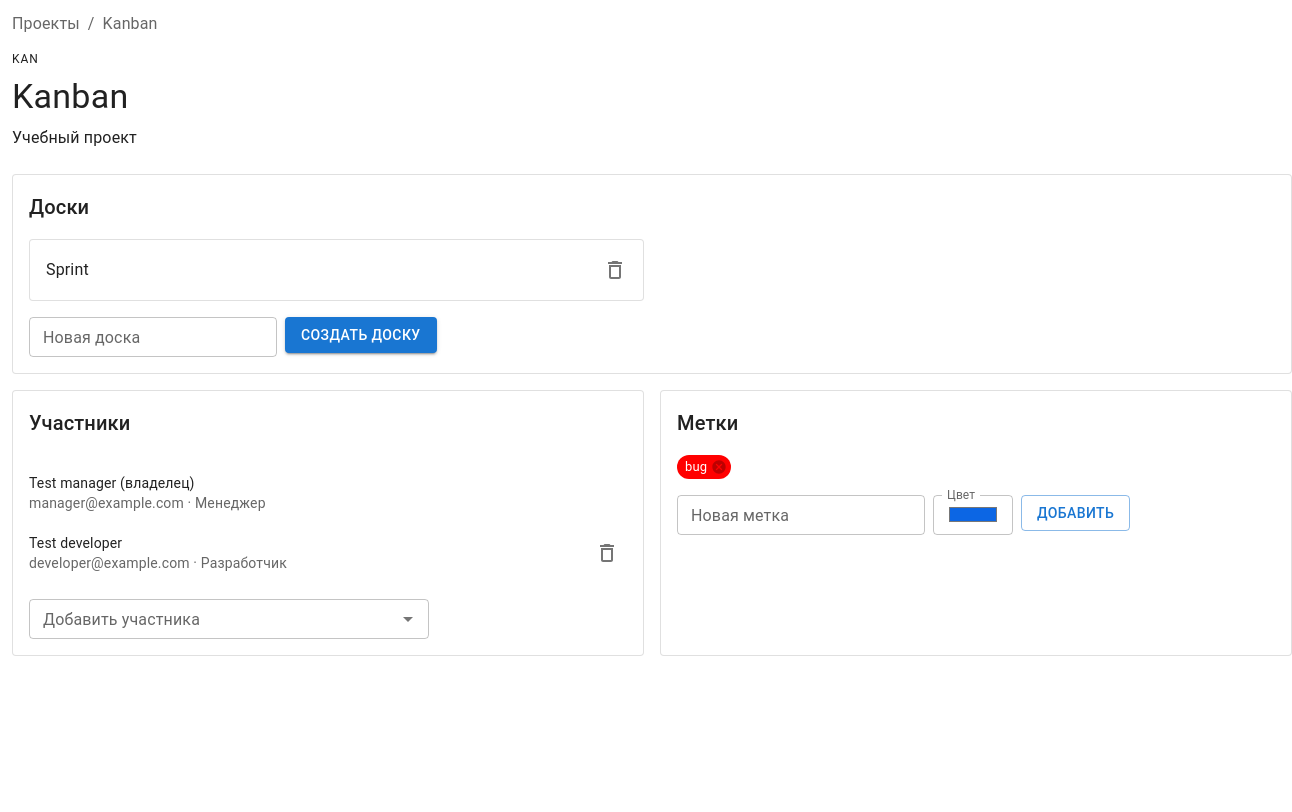
Test: ProjectPage › менеджер создаёт и удаляет метки
Expected: the text "bug" is shown, [685, 459, 707, 474]
Click the button "Добавить" at x=1076, y=513, box [1021, 495, 1130, 531]
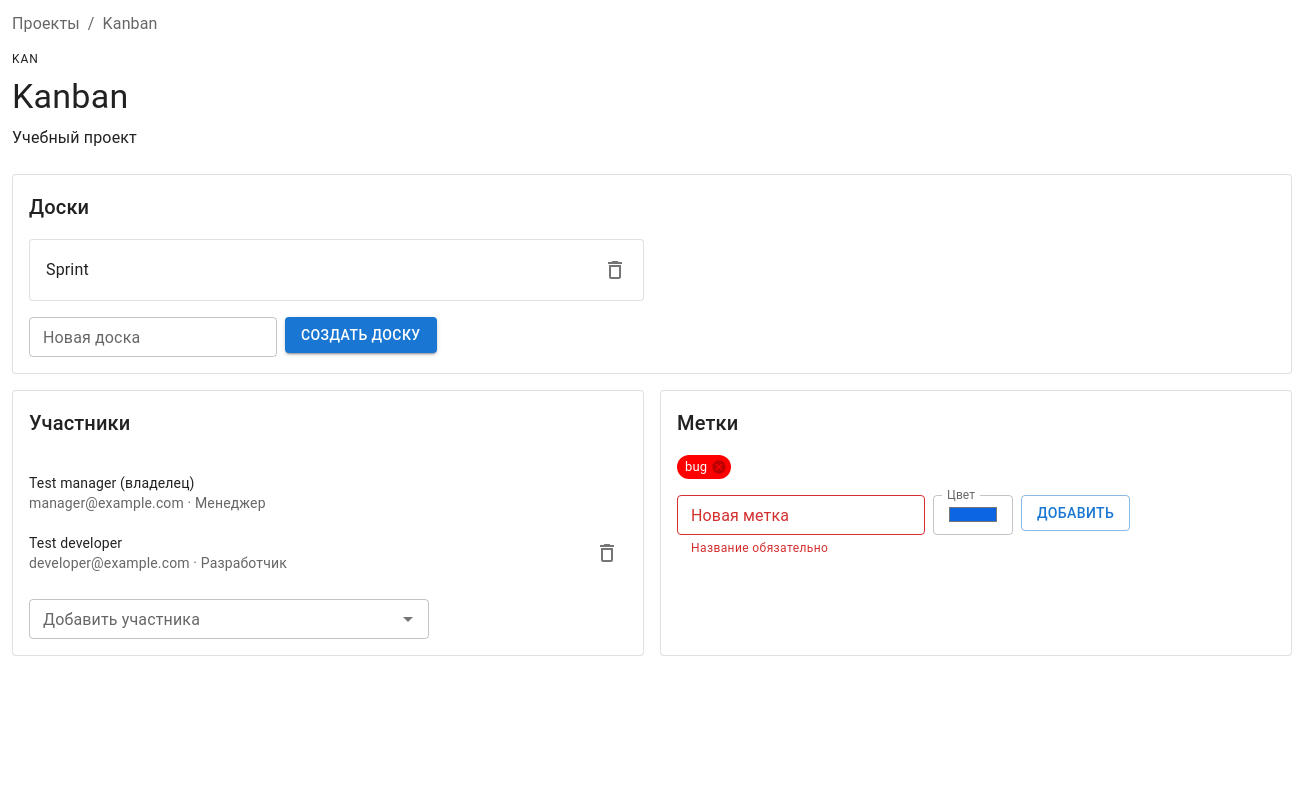
Expected: the text "Название обязательно" is shown, [691, 541, 828, 555]
Type "bug" into the field labelled "Новая метка" at x=801, y=515, box [677, 495, 925, 535]
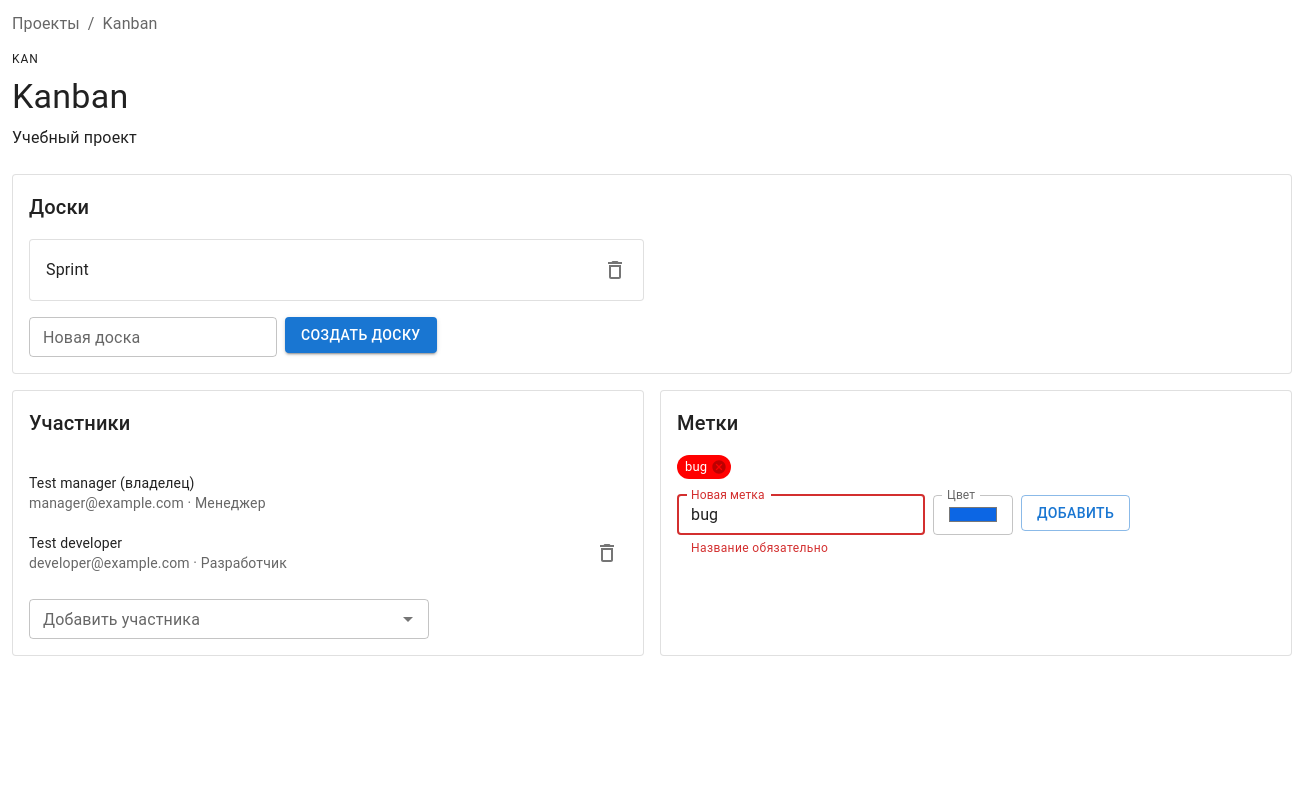
Click the button "Добавить" at x=1076, y=513, box [1021, 495, 1130, 531]
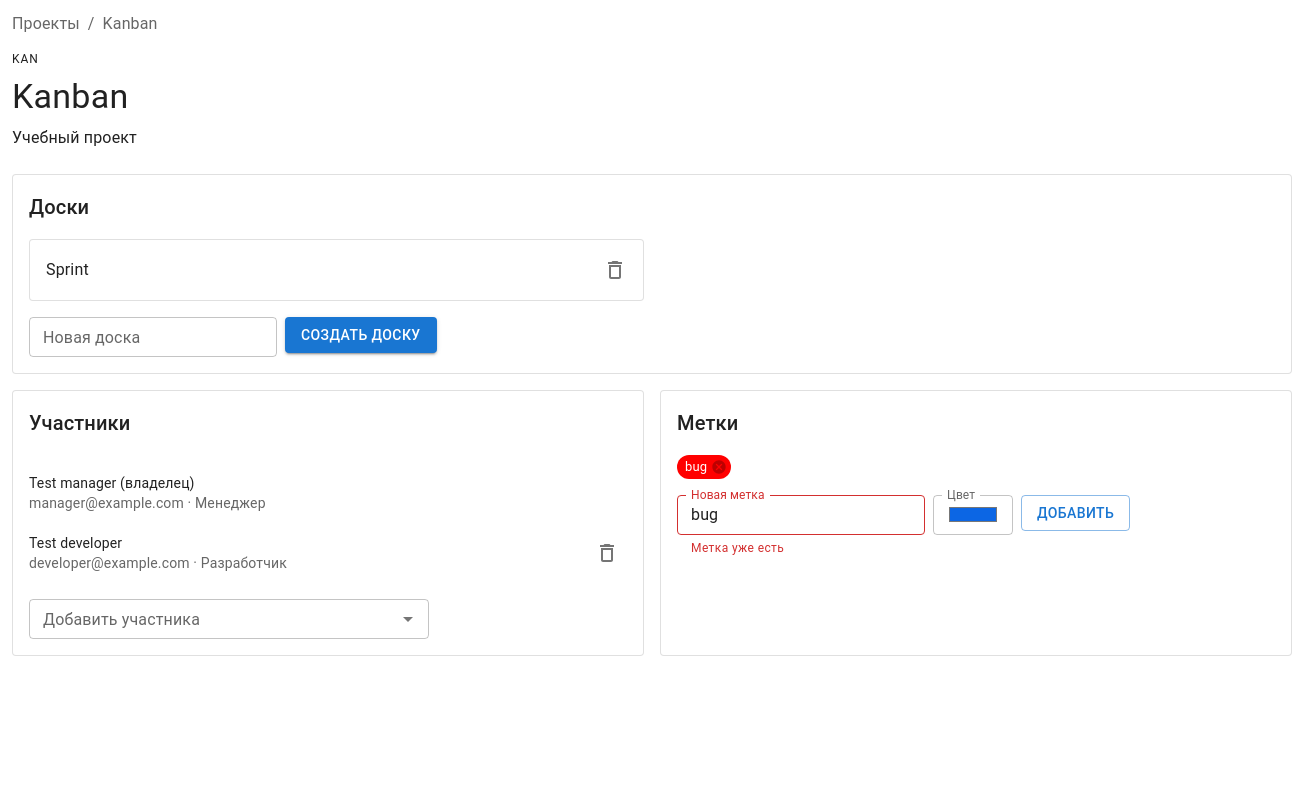
Expected: the text "Метка уже есть" is shown, [691, 541, 784, 555]
Replace the text in the field labelled "Новая метка" with "ui" at x=801, y=515, box [677, 495, 925, 535]
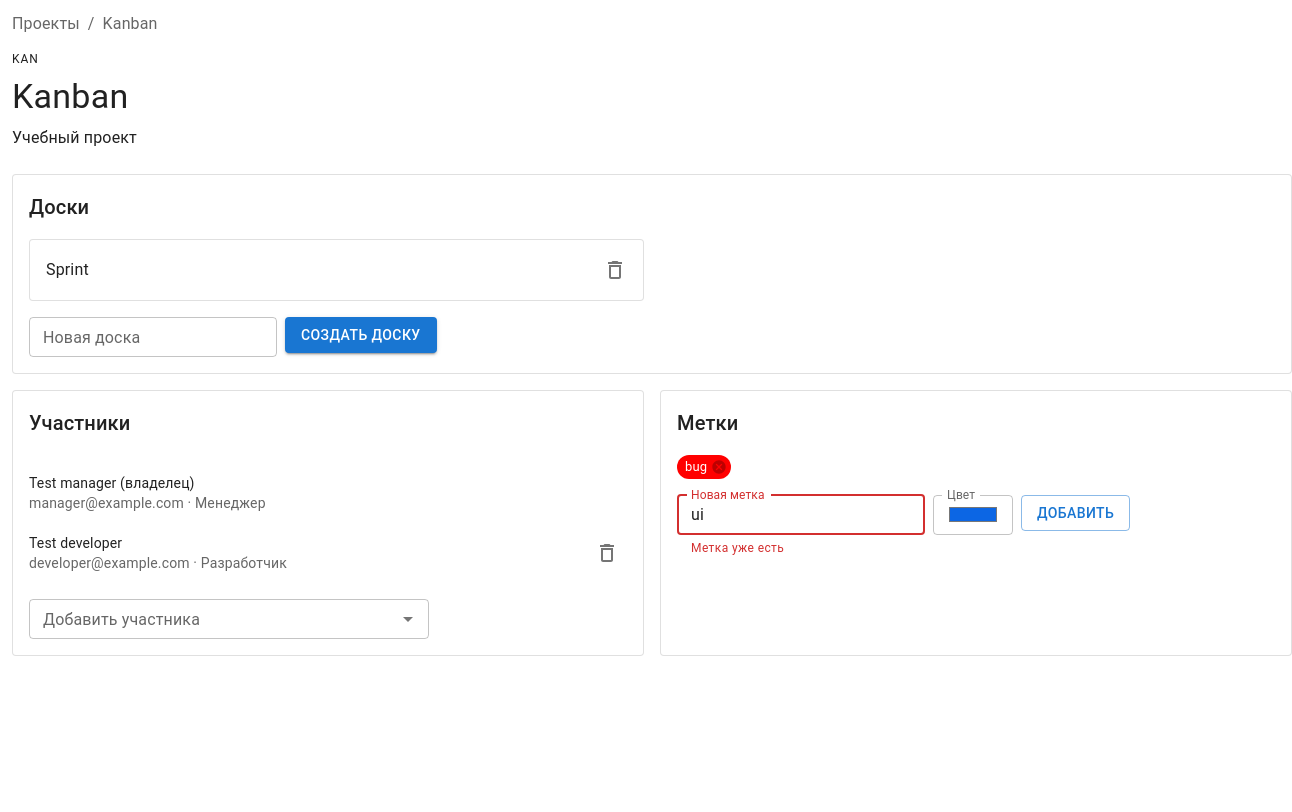
Click the button "Добавить" at x=1076, y=513, box [1021, 495, 1130, 531]
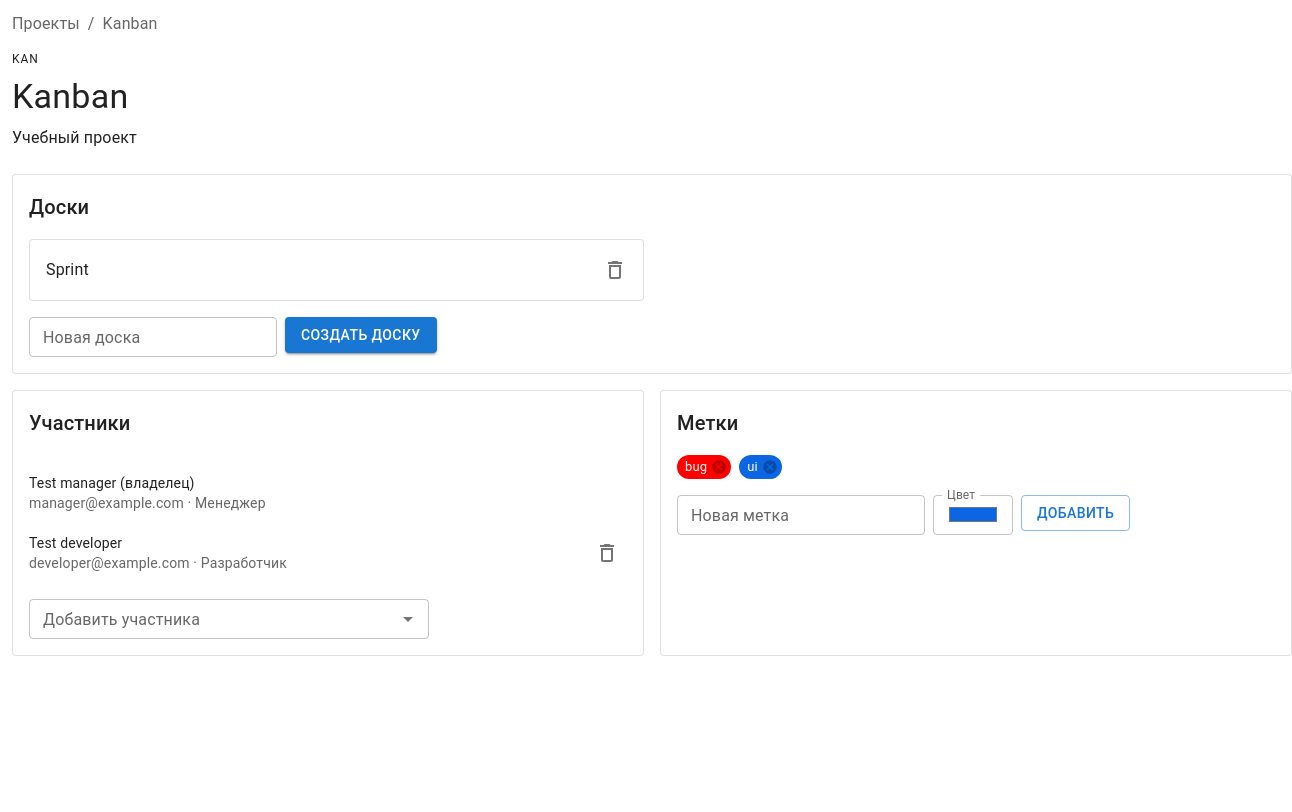
Expected: the text "ui" is shown, [747, 459, 758, 474]
Click the 1st icon with test id "CancelIcon" at x=719, y=467, box [711, 459, 727, 475]
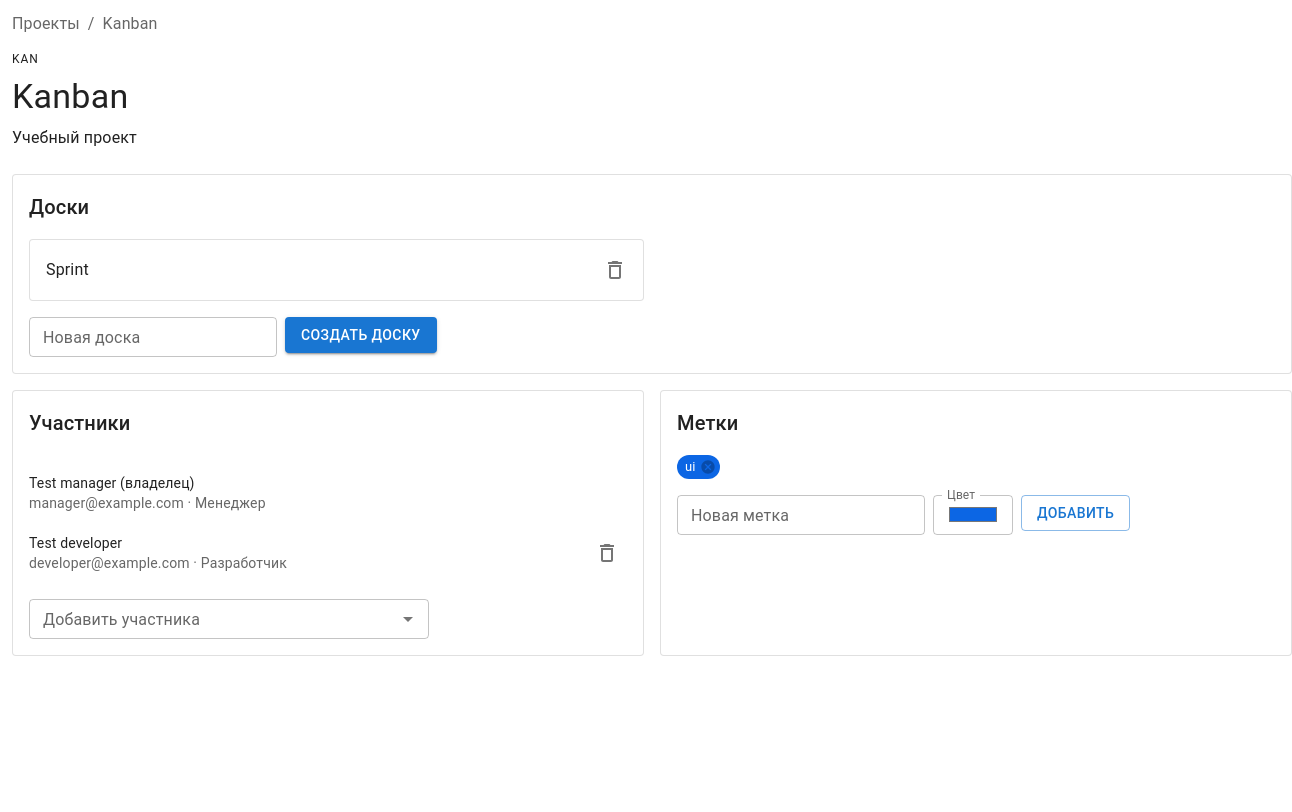
Expected: the button "bug" is gone
